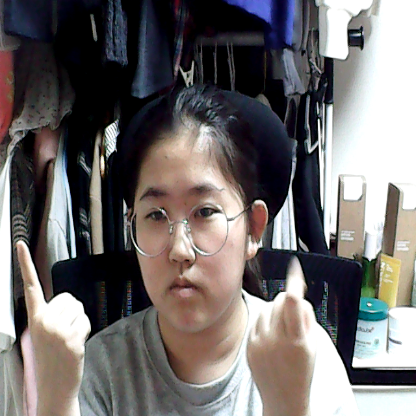Finger_1: (229, 246, 329, 406), (10, 226, 94, 405)
